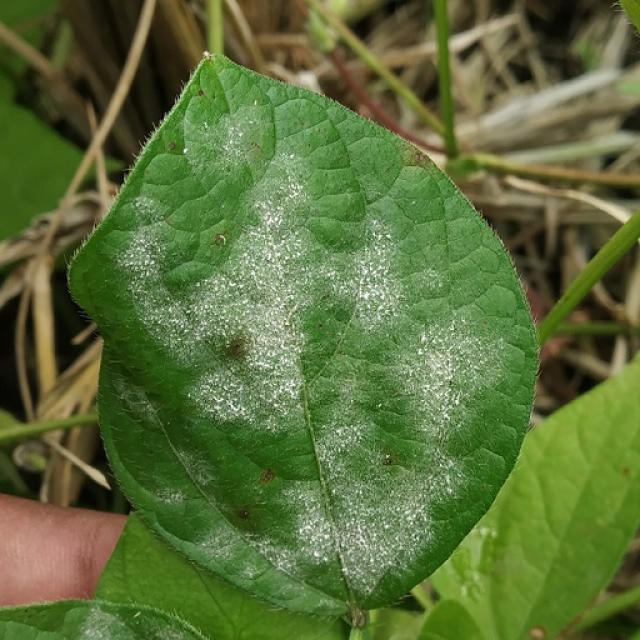Blackgram: (71, 58, 536, 615)
Powdery_Mildew: (319, 232, 498, 457), (187, 217, 334, 431), (328, 384, 476, 576), (182, 252, 306, 435), (231, 163, 328, 273), (326, 223, 416, 339), (386, 317, 477, 424), (241, 498, 342, 592), (114, 213, 187, 307), (200, 108, 268, 182), (291, 505, 337, 555)
